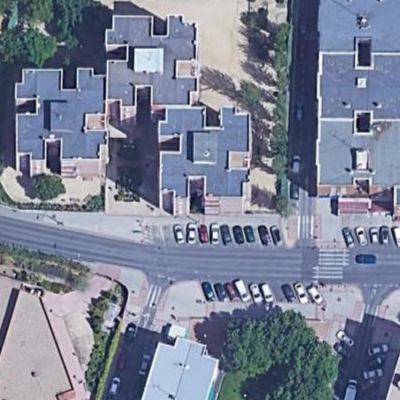tree: (287, 311, 335, 400), (221, 311, 282, 372), (2, 31, 58, 68), (53, 1, 90, 43), (33, 173, 69, 203), (15, 1, 53, 27), (238, 80, 263, 109), (270, 154, 291, 182), (272, 49, 292, 78), (272, 193, 290, 219), (272, 125, 290, 151), (271, 88, 290, 111), (272, 24, 290, 48)
